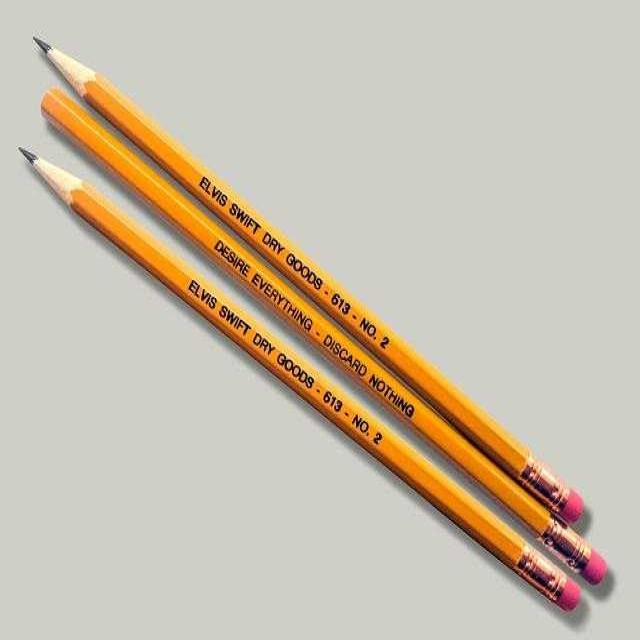pencil: (32, 69, 626, 608), (23, 15, 601, 538), (8, 120, 600, 625)
